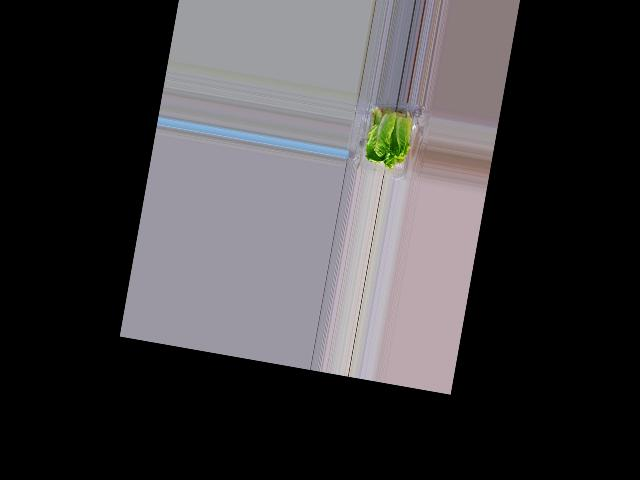lettuce: (362, 108, 415, 171)
